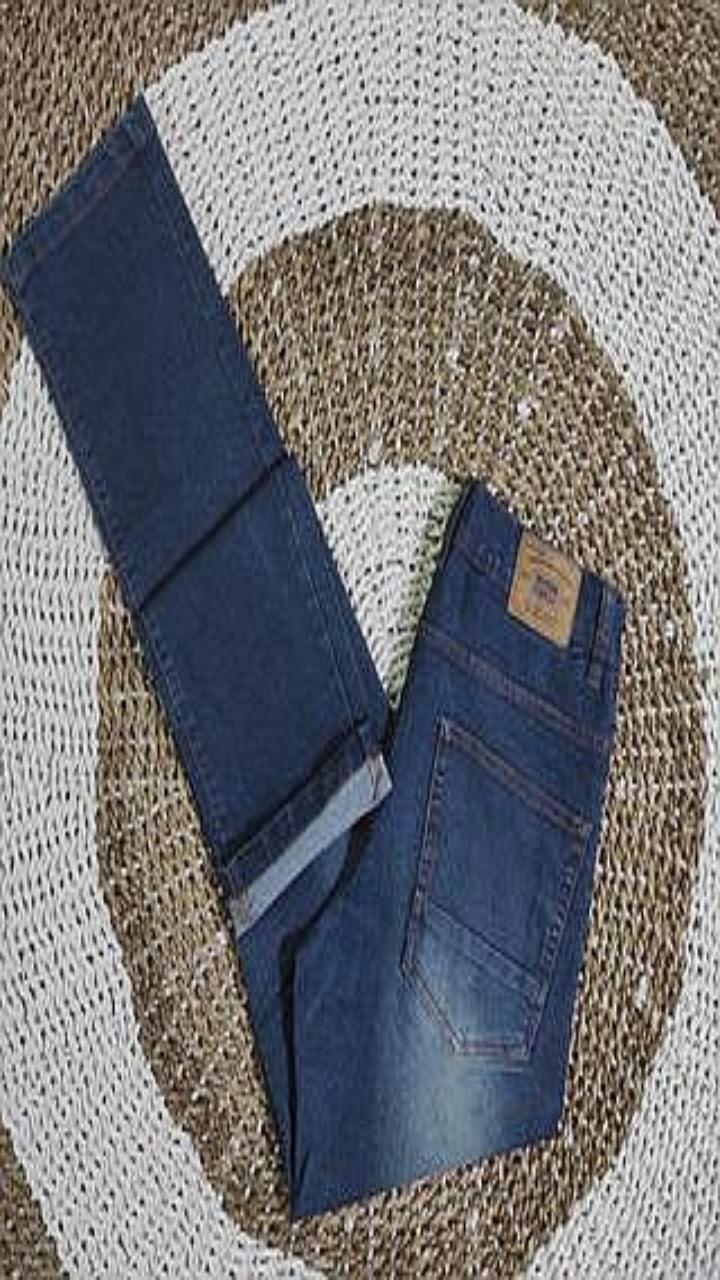Jeans: (2, 98, 623, 1215)
